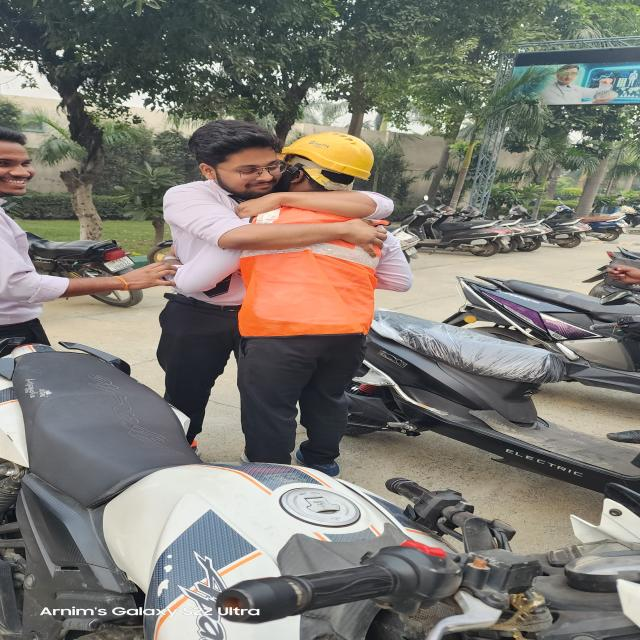safe: (230, 130, 418, 474)
unsafe: (160, 128, 286, 454), (0, 128, 155, 356)
